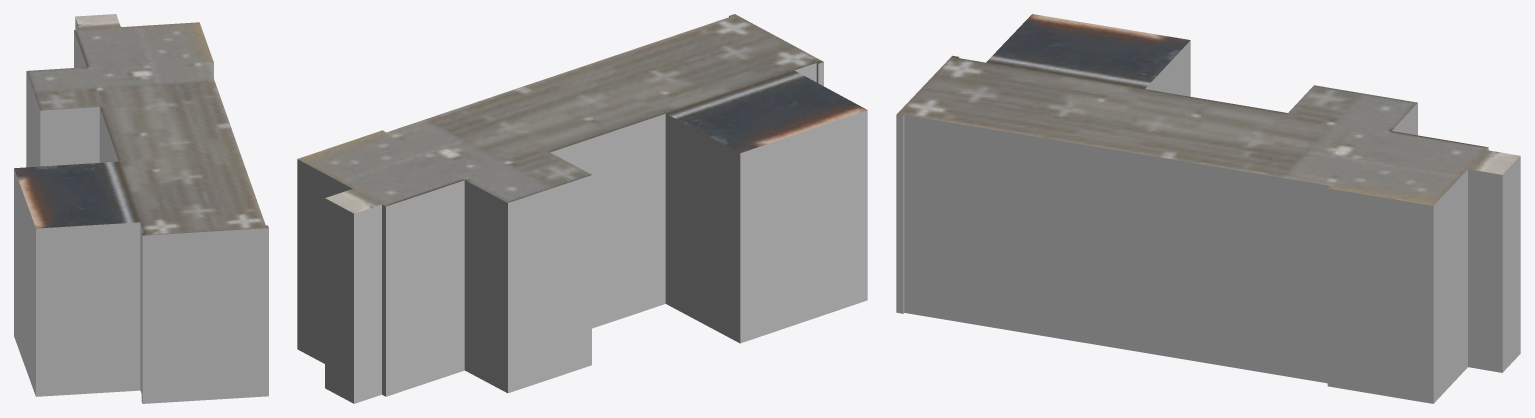
The model's file is DEBW_0010007TxeD.gltf.
3 views of the same model, side by side, from view 1: azimuth 30°, elevation 25°; view 2: azimuth 150°, elevation 25°; view 3: azimuth 270°, elevation 25° (orthographic). The views are drawn at different scales.
Parts seen in each view (by area): view 1: Z_UP; view 2: Z_UP; view 3: Z_UP.
Part boxes in pixels (bbox=[...]): Z_UP: bbox=[14, 14, 268, 403]; Z_UP: bbox=[297, 14, 867, 403]; Z_UP: bbox=[896, 14, 1520, 403].
Bounding box in the file's own units: 30.87 × 14.85 × 42.43.
Materials: 2 (1 with a texture image).
